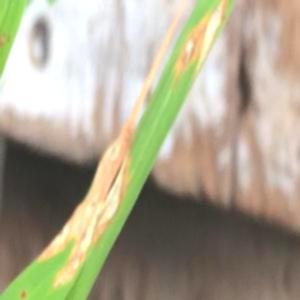1 RiceBlast: (190, 2, 242, 54), (179, 34, 203, 65)
